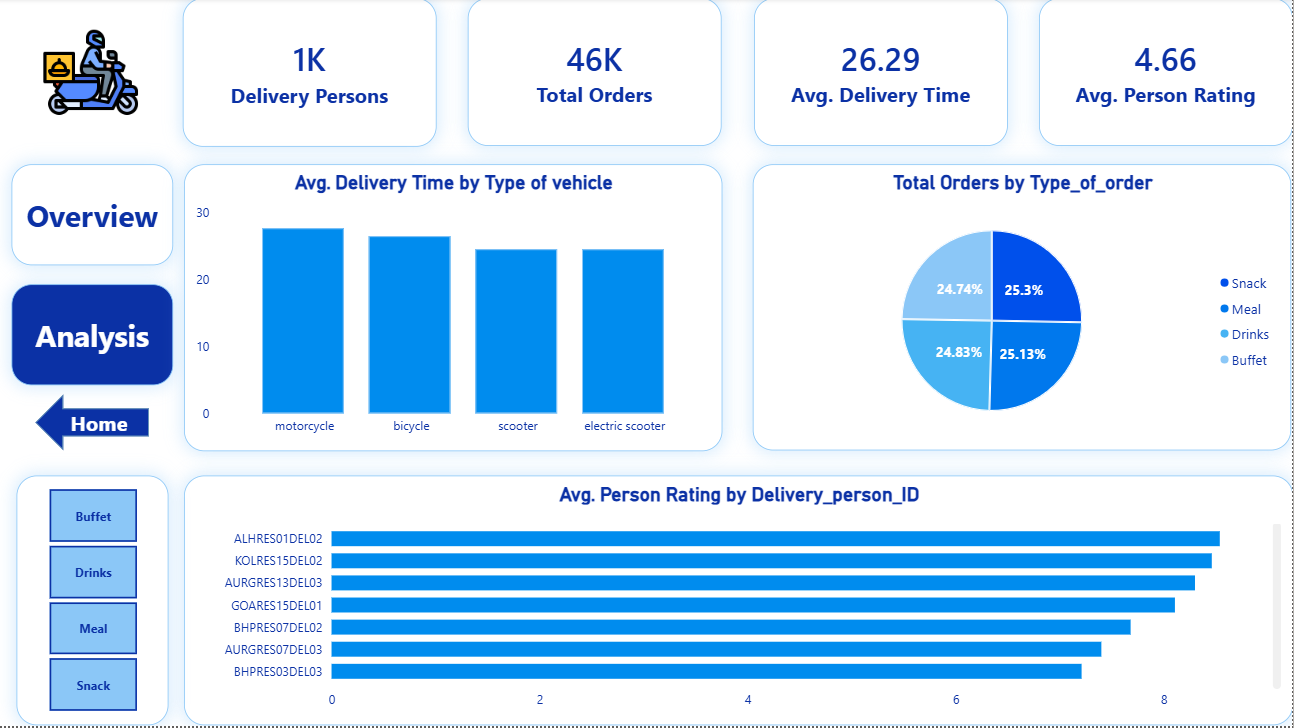

Layout of this report page (visuals, bound fields, positions):
{"tool":"powerbi","page":{"name":"Analysis","canvas":[1280,720],"ordinal":2},"visuals":[{"type":"cardVisual","fields":{"Data":["MyMeasures.Total Orders"]},"box":[464.3,0,251,146.7],"z":0},{"type":"cardVisual","fields":{"Data":["MyMeasures.No. Delivery Persons"]},"box":[181.8,0,251,147.2],"z":1000},{"type":"cardVisual","fields":{"Data":["MyMeasures.Avg.Delivery Time"]},"box":[746.8,0,251,146.7],"z":2000},{"type":"cardVisual","fields":{"Data":["MyMeasures.Avg.Delivery Person Rating"]},"box":[1029,0,251,146.7],"z":3000},{"type":"image","box":[0,23.5,181.8,100.2],"z":4000},{"type":"actionButton","box":[12.4,164.5,160,100.2],"z":5000},{"type":"actionButton","box":[12.4,283.3,160,100.2],"z":6000},{"type":"shape","box":[35.9,392.1,112.6,55.7],"z":7000},{"type":"pieChart","fields":{"Y":["MyMeasures.Total Orders"],"Category":["Cleaned_Data2.Type_of_order"]},"box":[746.2,165,533.1,283.3],"z":8000},{"type":"barChart","fields":{"Category":["Cleaned_Data2.Delivery_person_ID"],"Y":["MyMeasures.Avg. Person Rating"]},"box":[182.5,472.5,1097.5,247.5],"z":9000},{"type":"columnChart","fields":{"Category":["Cleaned_Data2.Type of vehicle"],"Y":["MyMeasures.Avg. Delivery Time"]},"box":[182.5,165,532.5,283.8],"z":10000},{"type":"slicer","fields":{"Values":["Cleaned_Data2.Type_of_order"]},"box":[17.5,472.5,150,247],"z":11000}]}

Visuals, with their boxes in screenshot pixels (x1, y1, x2, y2), scaled from the page's 1280x720 canvas onto the 1294x728 screenshot:
cardVisual - MyMeasures.Total Orders: region(469, 0, 723, 148)
cardVisual - MyMeasures.No. Delivery Persons: region(184, 0, 438, 149)
cardVisual - MyMeasures.Avg.Delivery Time: region(755, 0, 1009, 148)
cardVisual - MyMeasures.Avg.Delivery Person Rating: region(1040, 0, 1293, 148)
image: region(0, 24, 184, 125)
actionButton: region(13, 166, 174, 268)
actionButton: region(13, 286, 174, 388)
shape: region(36, 396, 150, 453)
pieChart - MyMeasures.Total Orders x Cleaned_Data2.Type_of_order: region(754, 167, 1293, 453)
barChart - Cleaned_Data2.Delivery_person_ID x MyMeasures.Avg. Person Rating: region(184, 478, 1293, 727)
columnChart - Cleaned_Data2.Type of vehicle x MyMeasures.Avg. Delivery Time: region(184, 167, 723, 454)
slicer - Cleaned_Data2.Type_of_order: region(18, 478, 169, 727)
